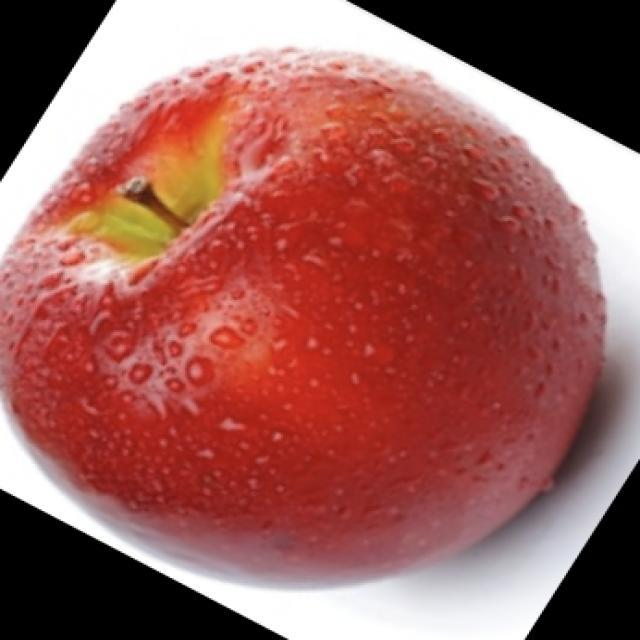Fresh Apple: (11, 71, 612, 576)
